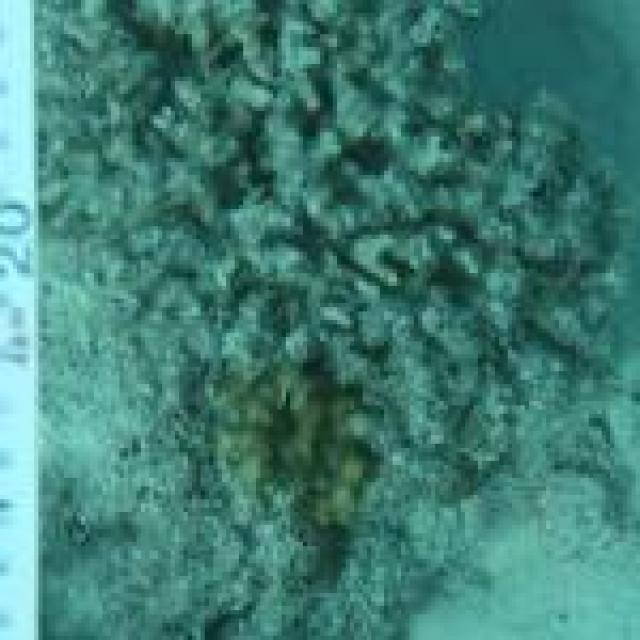Dead Coral: (39, 3, 640, 353)
